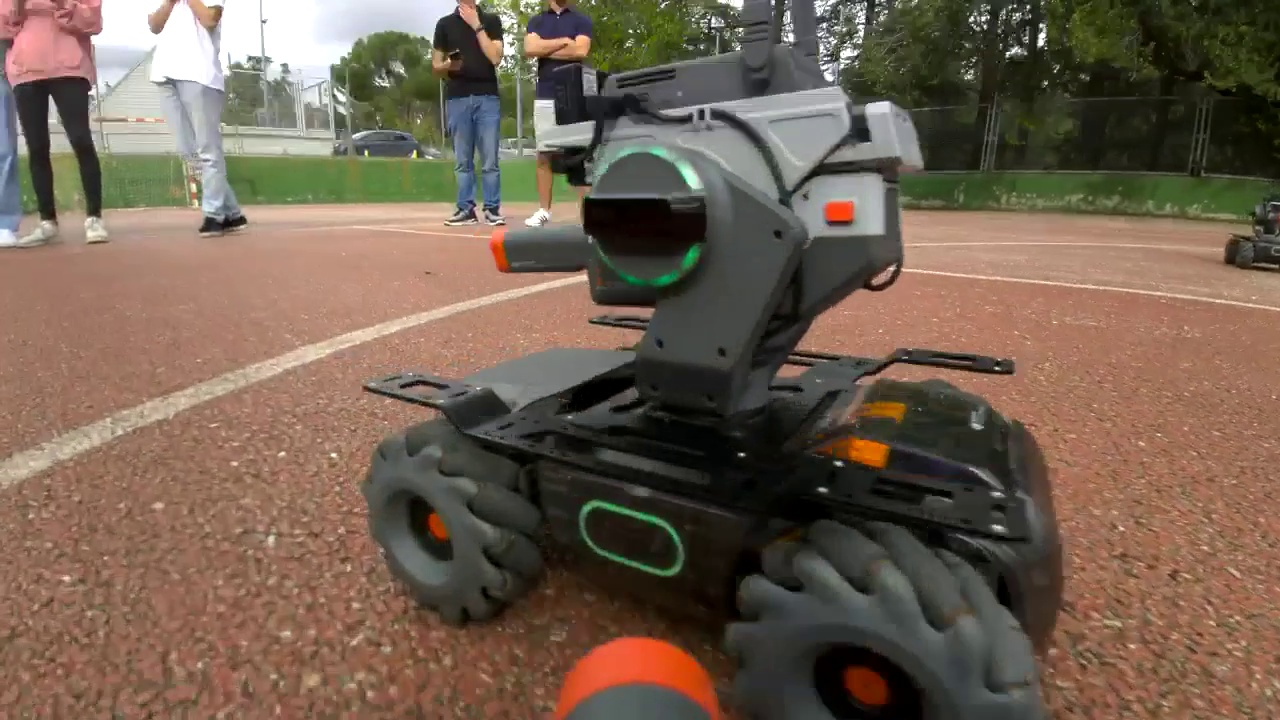robot: (358, 45, 1065, 720)
